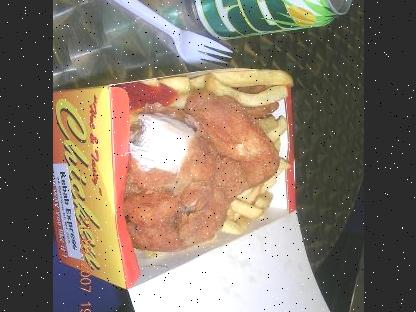Can: (187, 0, 352, 41)
